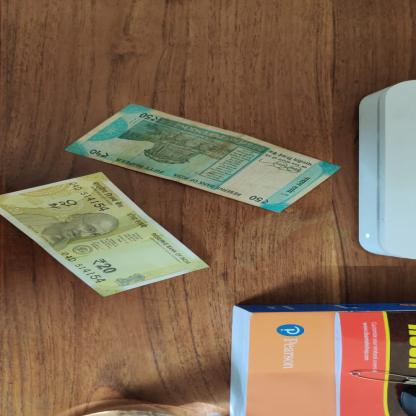New20Front: (0, 171, 211, 298)
New50Back: (63, 103, 342, 213)
